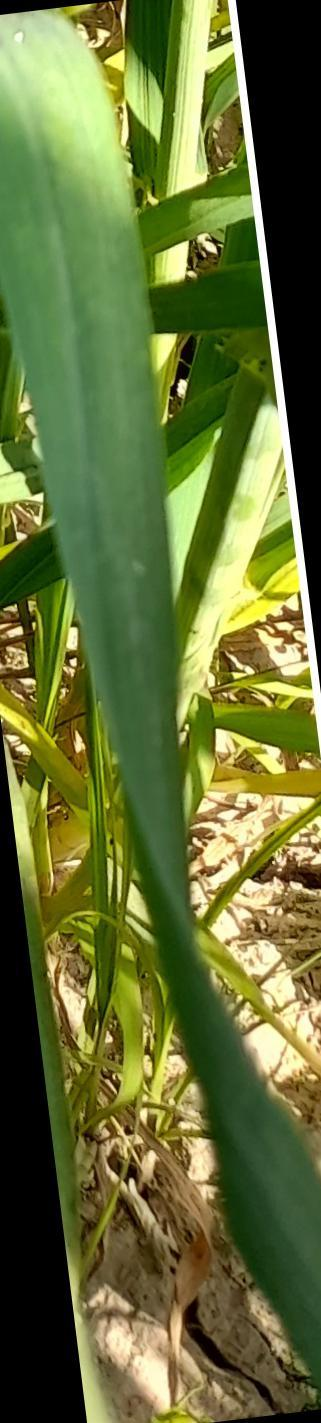Wheat: (9, 63, 115, 369), (79, 399, 152, 618), (116, 666, 178, 896), (256, 1104, 320, 1280)
